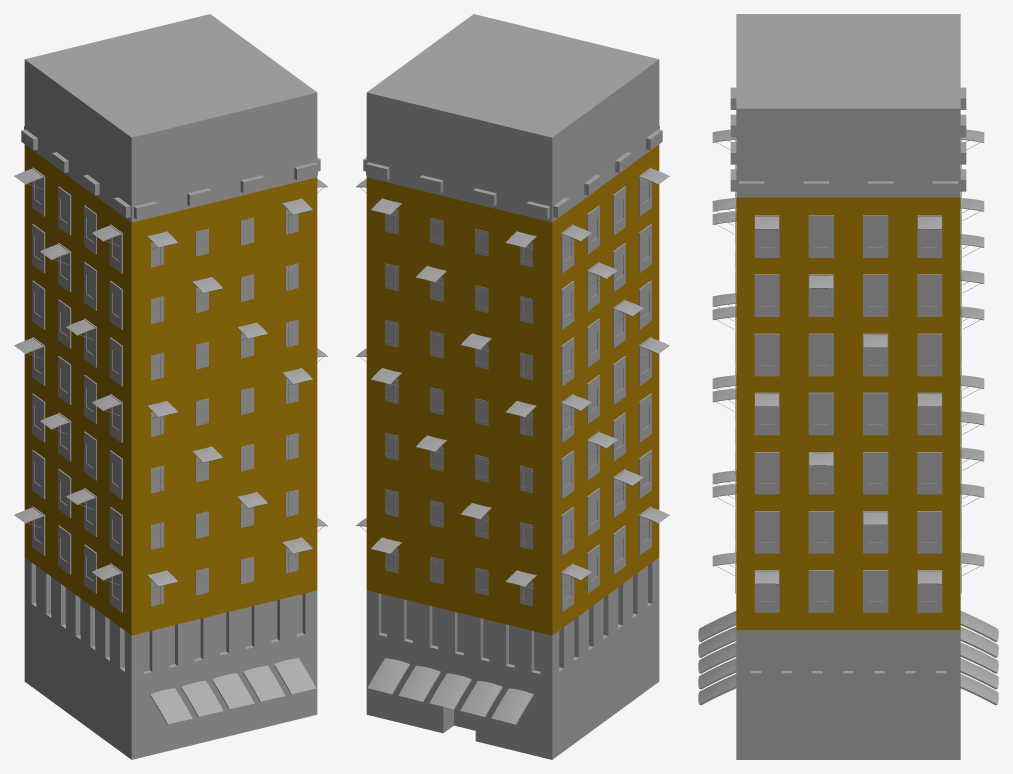
The model's file is Med_02.fbx.
The picture shows the model from 3 angles, left to right: view 1: azimuth 30°, elevation 25°; view 2: azimuth 150°, elevation 25°; view 3: azimuth 270°, elevation 25°; orthographic projection. The views are drawn at different scales.
Parts seen in each view (by area): view 1: _Mesh2; view 2: _Mesh2; view 3: _Mesh2.
Part boxes in pixels (<box>): _Mesh2: <box>14,14,327,759</box>; _Mesh2: <box>356,14,669,759</box>; _Mesh2: <box>698,14,998,759</box>.
Size of the model in its own units: 2328 by 6150 by 2572.
